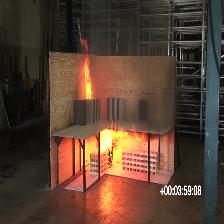fire: (100, 122, 148, 166), (80, 38, 93, 99)
